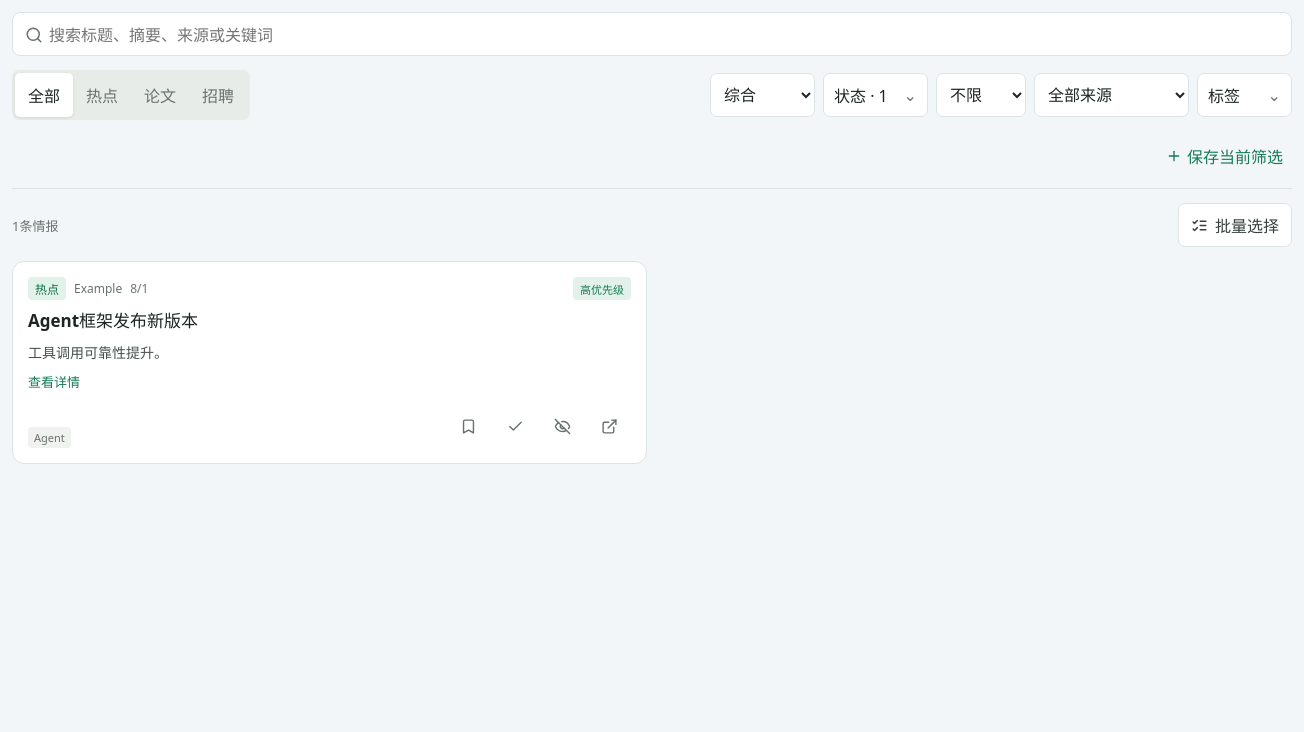
忽略情报后可以立即撤销
Expected: the heading "Agent框架发布新版本" is shown, [28,309,198,332]
Click the button named "忽略" at (562, 426), box [540,404,584,448]
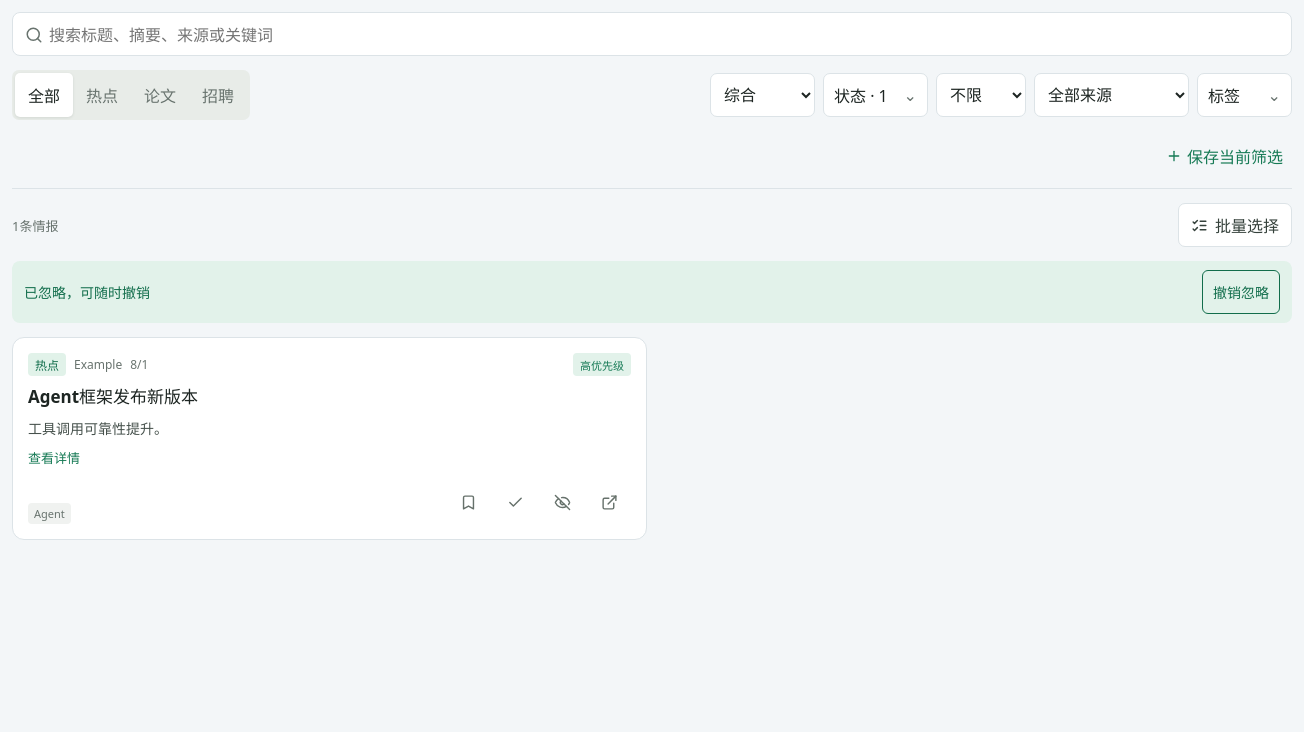
Expected: the message shows "已忽略，可随时撤销", [24,283,150,302]
Click the button "撤销忽略" at (1241, 292), box [1202,270,1280,314]
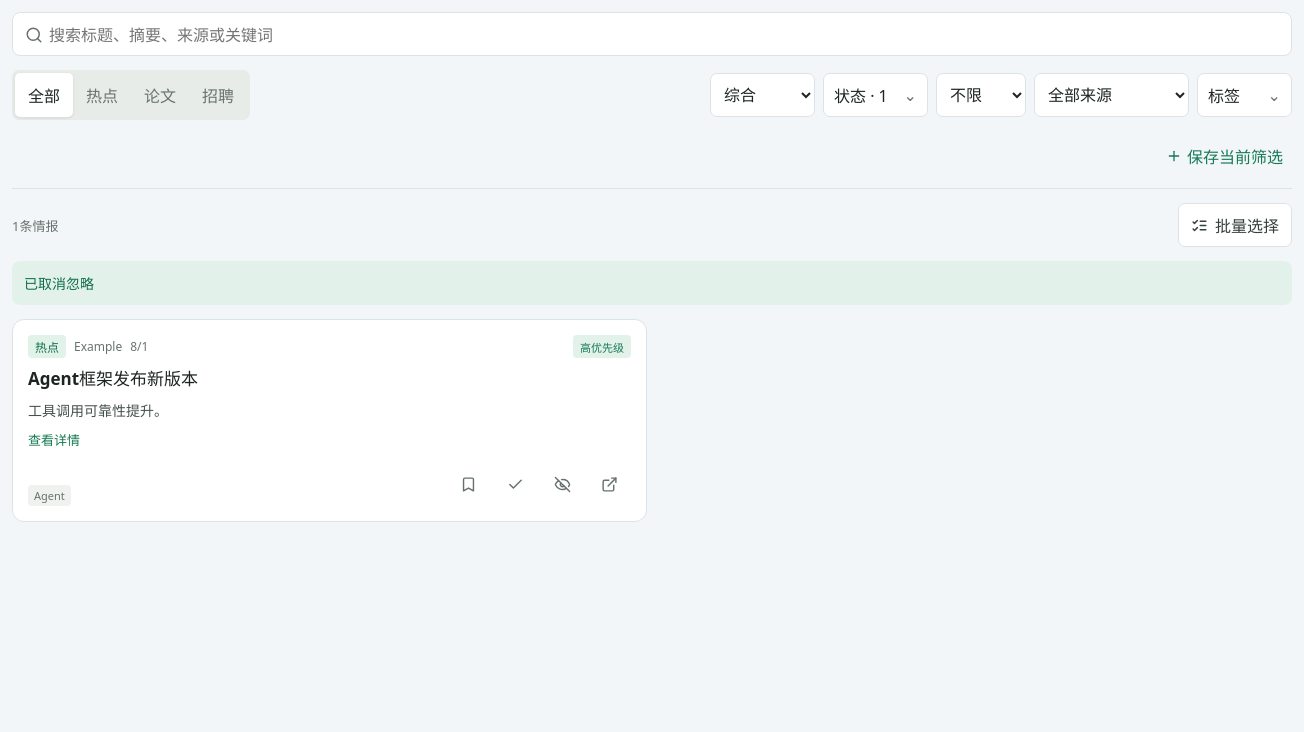
Expected: the message reads "已取消忽略", [24,274,94,293]
